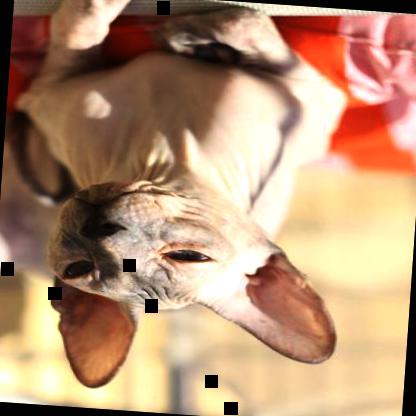cat: (0, 0, 362, 407)
